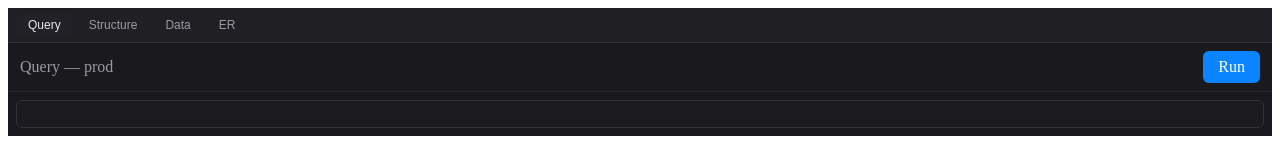
it: ConnectionWorkspace › Data 서브탭으로 전환하면 데이터 뷰가 뜬다
Click the button with test id "subtab-data".
click(178, 25)  # box [153, 14, 203, 36]
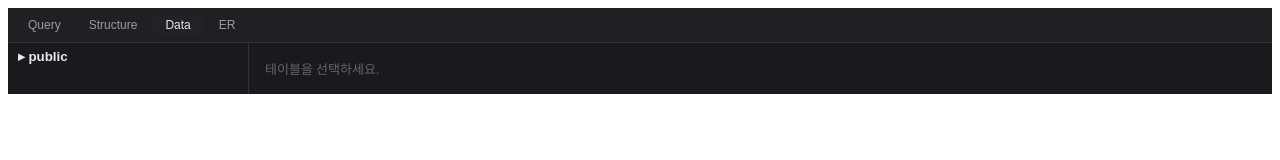
Expected: the button "▸ public" is shown, [8, 43, 248, 70]
Expected: the text "Query — " is gone
